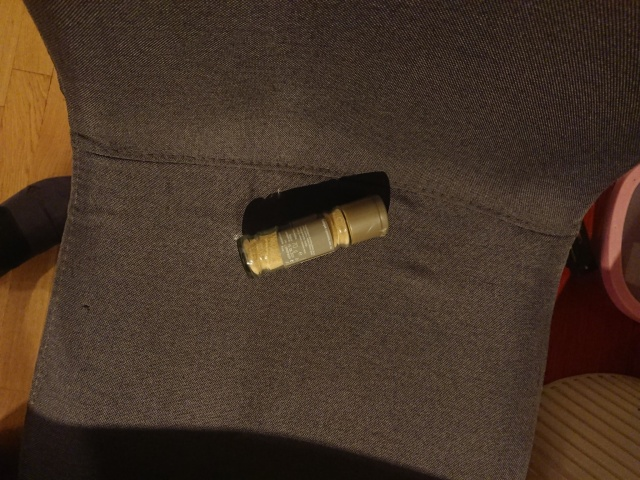Kotanyi Garlic Granules 70g: (236, 191, 392, 283)
